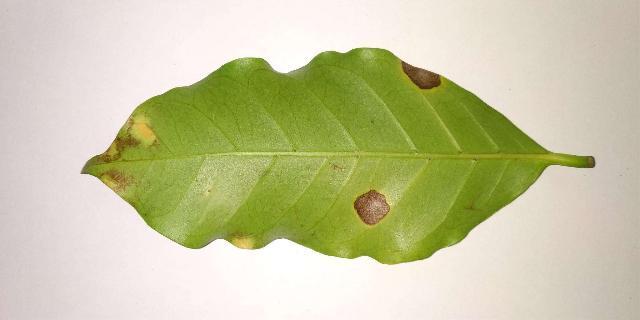miner: (89, 108, 159, 166), (396, 57, 446, 91), (352, 188, 393, 228), (98, 168, 137, 198), (228, 232, 258, 249)
